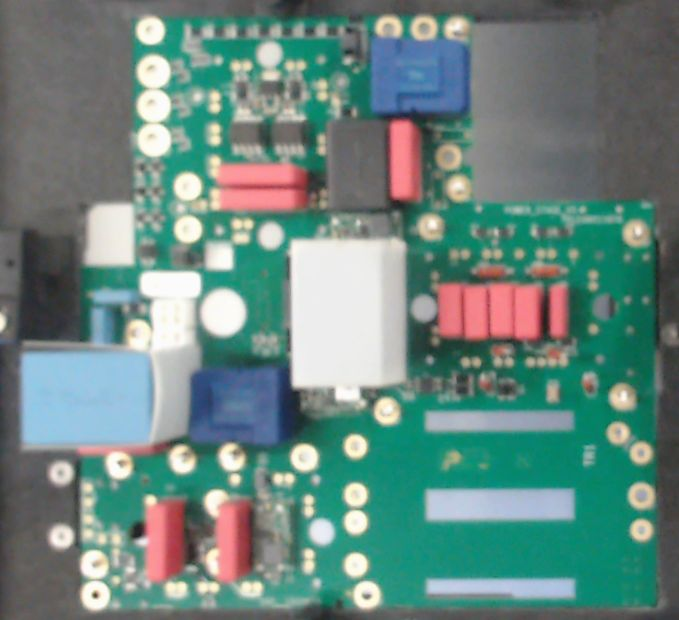comp1: (369, 37, 470, 118), (189, 369, 291, 445)
comp2: (145, 501, 185, 582), (390, 118, 422, 207), (217, 500, 252, 581), (217, 187, 308, 212), (217, 163, 306, 188), (514, 281, 541, 343), (436, 282, 463, 343), (463, 282, 489, 342), (488, 282, 514, 342), (548, 283, 571, 342)
comp3: (323, 117, 392, 214)
comp4: (17, 338, 201, 451), (289, 237, 408, 388)
